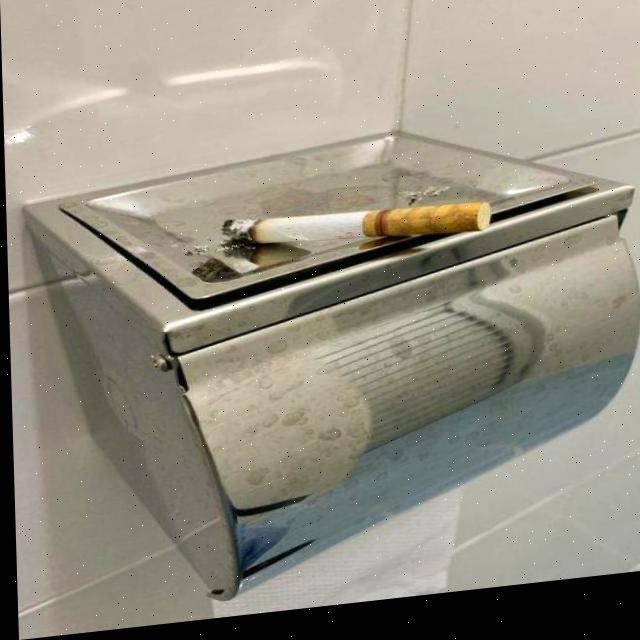cigarette: (220, 201, 491, 264)
